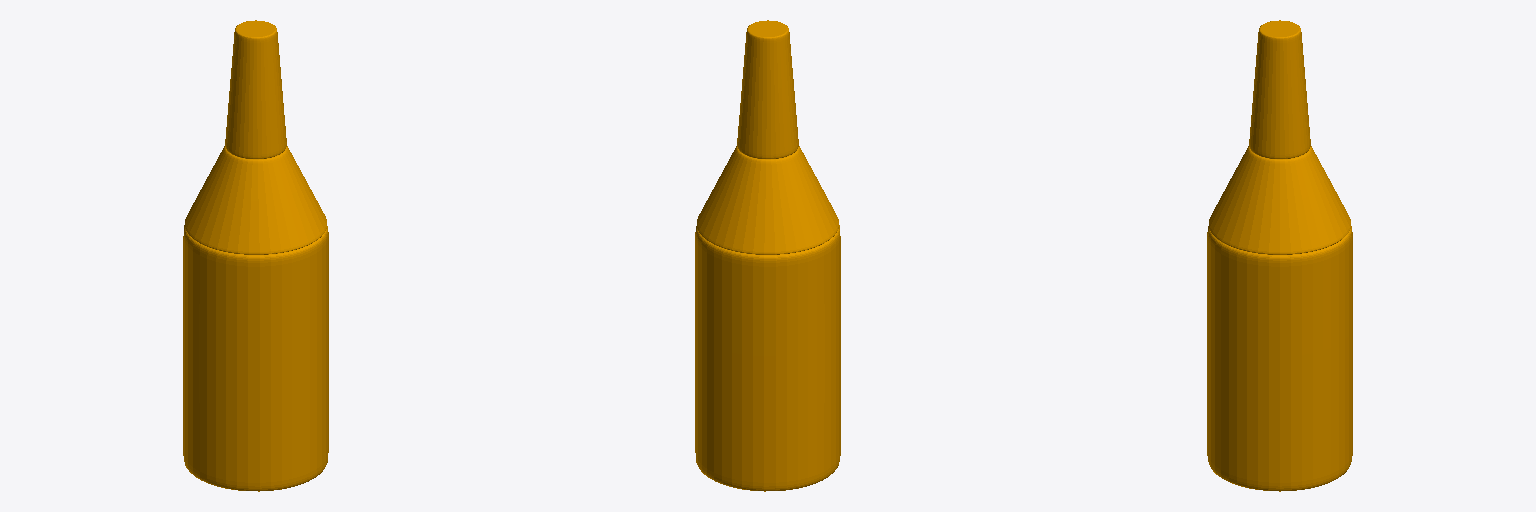
URDF robot description (object_489555029):

		<robot name="object_489555029">
			<link name="link_object_489555029">
				<visual>
					<geometry>
						<mesh filename="temp_object_489555029.obj" />
					</geometry>
				</visual>

				<collision>
					<geometry>
						<mesh filename="temp_object_489555029.obj" />
					</geometry>
				</collision>
				
				<inertial>
					<origin rpy="0 0 0" xyz="0 0 0"/>
					<mass value="0.3" />
					<inertia ixx="0.3" ixy="0" ixz="0" iyy="0.3" iyz="0" izz="0.3" />
				</inertial>
			</link>
		</robot>
		

--- What the picture shows (computed from the rendered views, not written in the file) ---
3 views of the same robot in one strip: view 1: azimuth 30°, elevation 25°; view 2: azimuth 150°, elevation 25°; view 3: azimuth 270°, elevation 25° (orthographic).
Robot: object_489555029 — 1 links, 0 joints (none); root link link_object_489555029; default pose: every joint at zero.
Links seen in each view (by area): view 1: link_object_489555029; view 2: link_object_489555029; view 3: link_object_489555029.
Link boxes in pixels (x1,y1,x2,y2): link_object_489555029: (183,20,328,491); link_object_489555029: (695,20,840,491); link_object_489555029: (1207,20,1352,491).
Size in the robot's own frame: 0.079 by 0.079 by 0.26 metres.
Meshes: 1 distinct files referenced, 1 mesh visuals loaded (1 OBJ).
